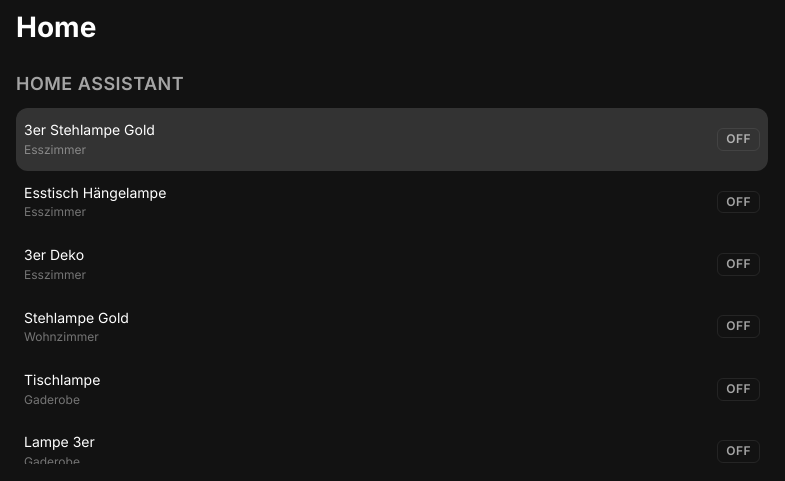
Scenario: HomeMenuView › toggles the light on tap and updates the badge
This screenshot has width=785, height=481.
Click the text "3er Stehlampe Gold" at (89, 130), box [24, 121, 155, 138]
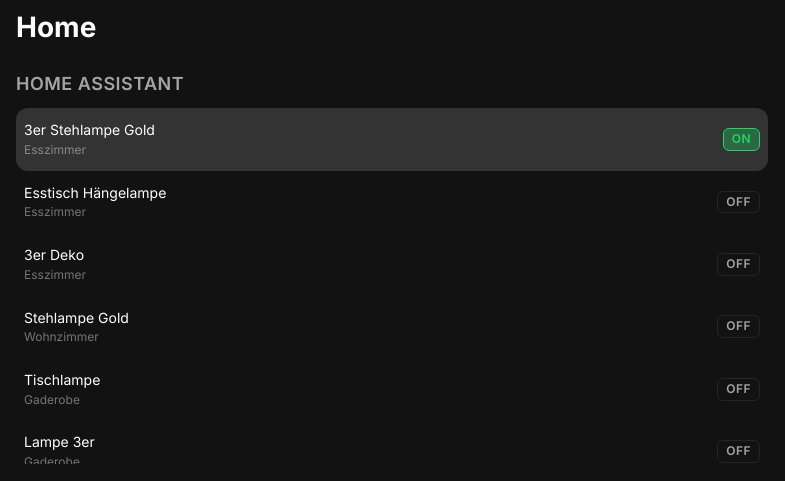
Expected: the text "ON" is shown, [723, 128, 760, 151]
